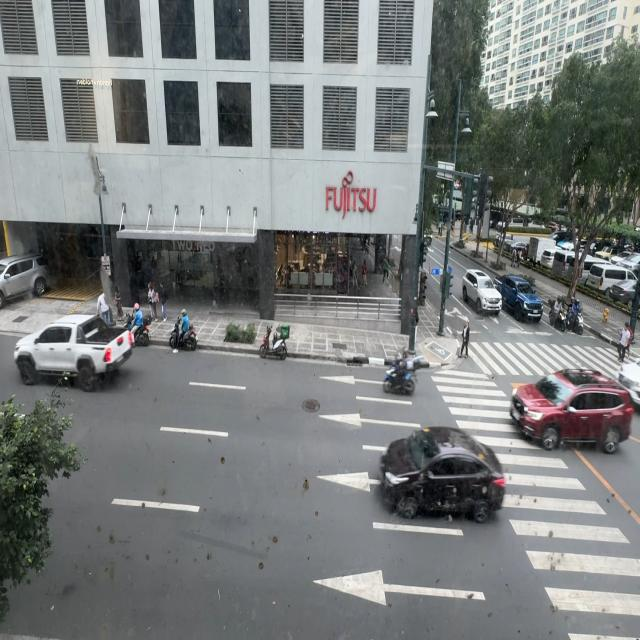crossing: (619, 322, 632, 362), (460, 320, 470, 358)
pedestrain: (362, 260, 368, 287)
